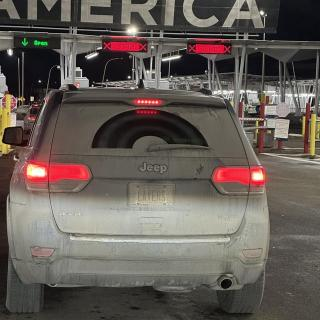license: (127, 183, 177, 208)
